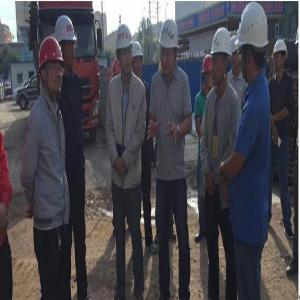red: (38, 35, 64, 98), (203, 55, 214, 89)
white: (239, 3, 268, 82), (56, 14, 77, 72), (160, 19, 180, 76), (212, 29, 231, 87), (116, 23, 133, 77), (273, 38, 288, 77), (132, 40, 143, 77), (230, 34, 240, 71)
